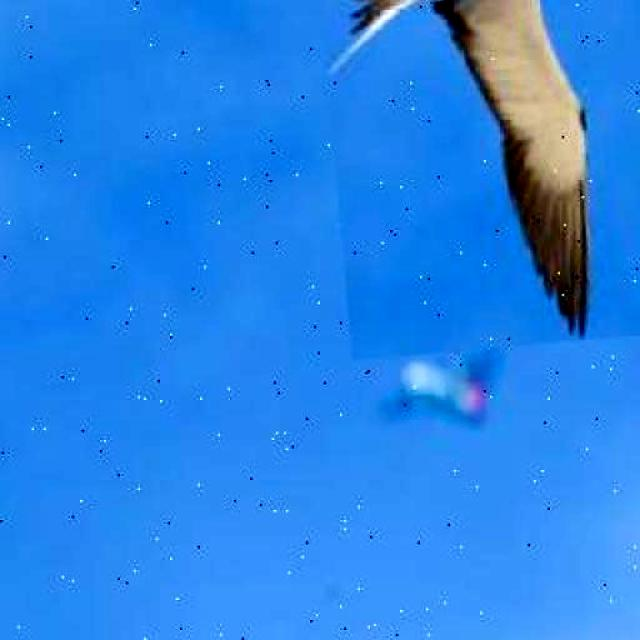airplane: (305, 0, 640, 360)
